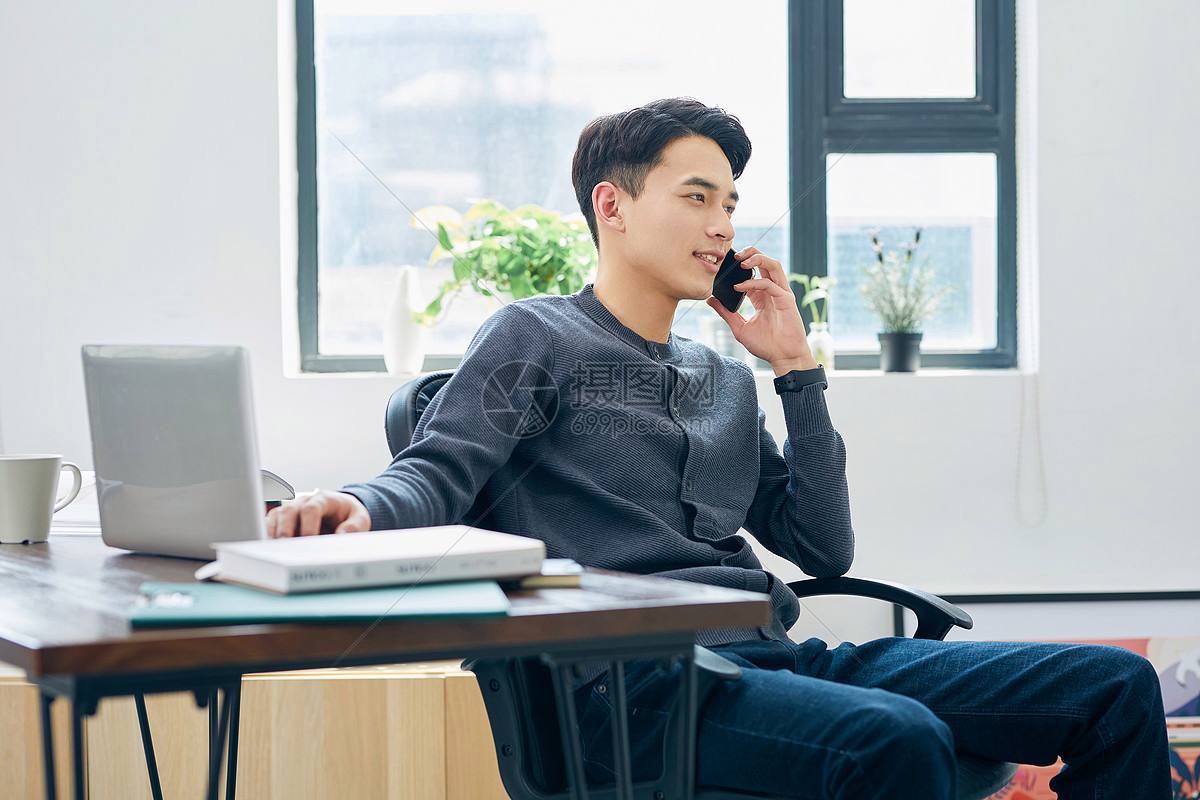calling: (706, 242, 810, 362)
